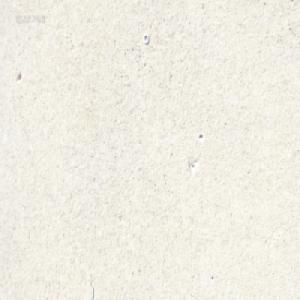Washer: (143, 34, 149, 45)
